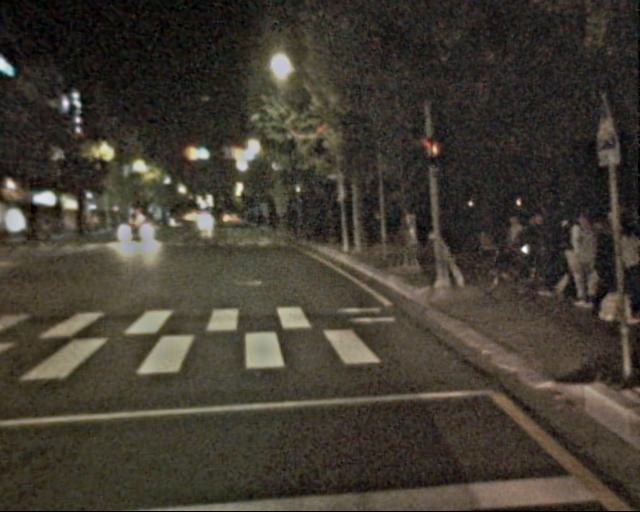person: (506, 209, 561, 295), (565, 216, 604, 311), (557, 207, 595, 300), (609, 214, 640, 325)
